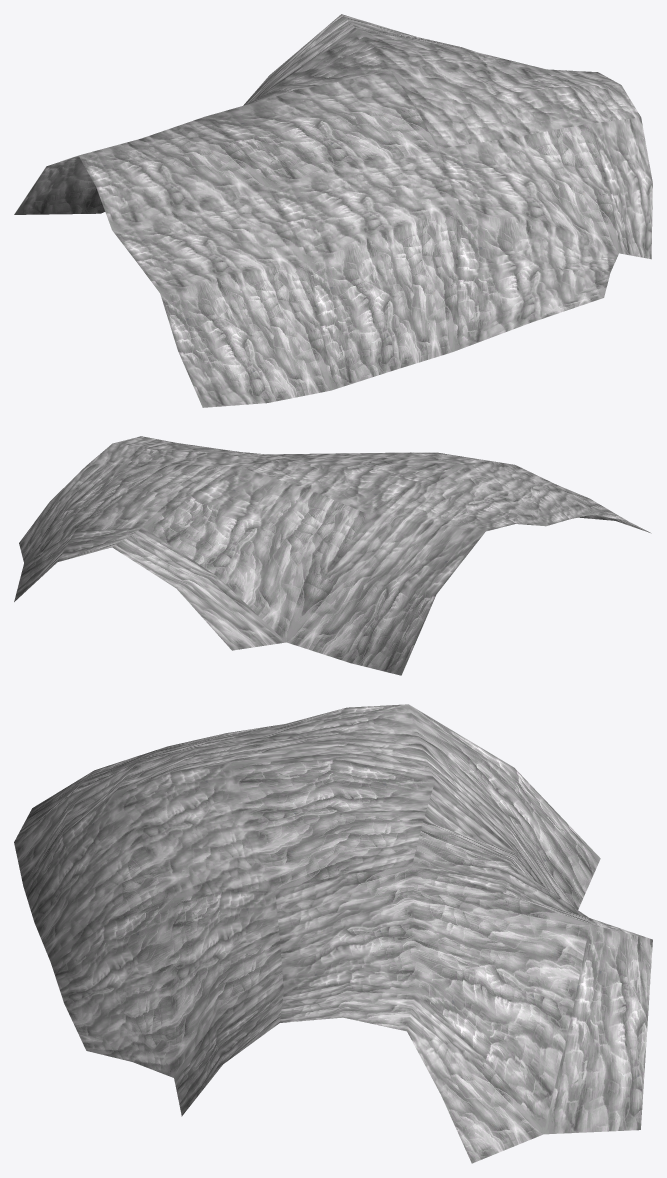
File: SWORDLIGHT20_PS-AREA03_51.fbx
3 renders of one model, top to bottom at view 1: azimuth 30°, elevation 25°; view 2: azimuth 150°, elevation 25°; view 3: azimuth 270°, elevation 25°, orthographic. The views are drawn at different scales.
Visible parts, largest first — view 1: SWORDLIGHT20_PS-AREA03_51; view 2: SWORDLIGHT20_PS-AREA03_51; view 3: SWORDLIGHT20_PS-AREA03_51.
Part boxes in pixels (x1=…): SWORDLIGHT20_PS-AREA03_51: x1=14, y1=14, x2=652, y2=407; SWORDLIGHT20_PS-AREA03_51: x1=14, y1=436, x2=651, y2=675; SWORDLIGHT20_PS-AREA03_51: x1=14, y1=704, x2=652, y2=1163.
Bounding box in the file's own units: 350554 × 82591 × 282214.
1 material, 1 textured.
